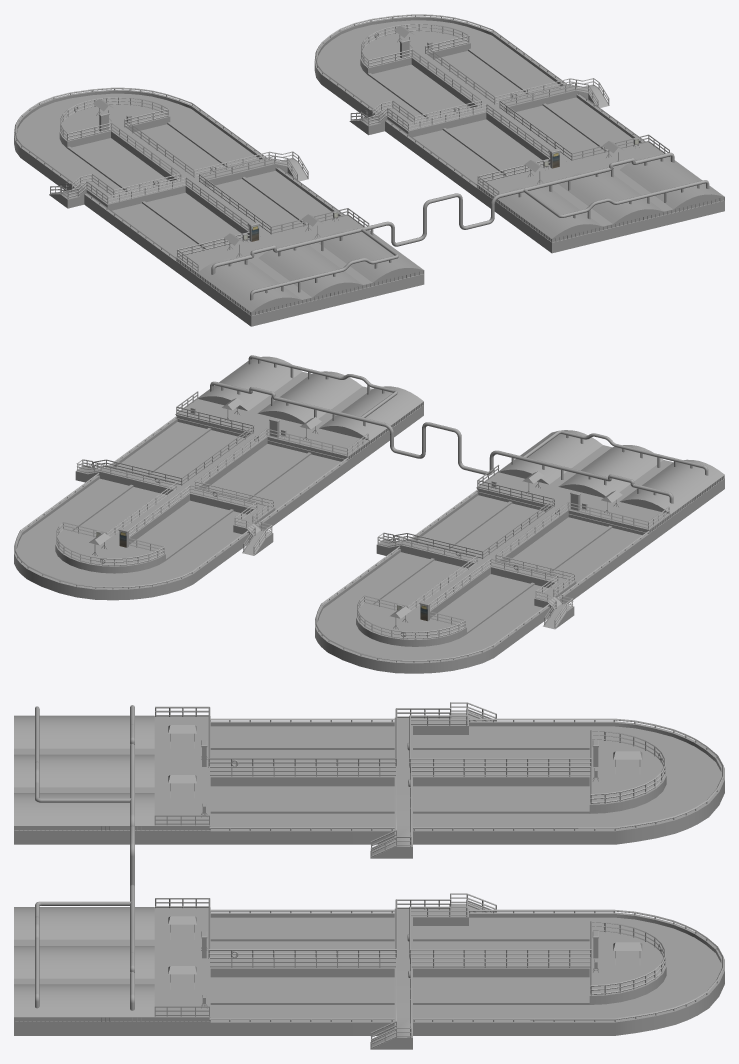
The model's file is YangHuaGou.fbx.
3 views of the same model, one above another, from view 1: azimuth 30°, elevation 25°; view 2: azimuth 150°, elevation 25°; view 3: azimuth 270°, elevation 25° (orthographic). The views are drawn at different scales.
Visible parts, largest first — view 1: polySurface15 (×2), Shu1 (×2), PengZi (×2), GanZi (×2), GuanZi, GeDuan (×2), LanSeGanZi (×2); view 2: polySurface15 (×2), Shu1 (×2), PengZi (×2), GanZi (×2), GuanZi, GeDuan (×2); view 3: polySurface15 (×2), Shu1 (×2), PengZi (×2), GanZi (×2), GeDuan (×2), GuanZi, PengZi1 (×2).
Part boxes in pixels (left/top/right/bottom): polySurface15 (×2): left=14, top=16, right=724, bottom=326; Shu1 (×2): left=17, top=20, right=633, bottom=256; PengZi (×2): left=197, top=155, right=724, bottom=312; GanZi (×2): left=14, top=14, right=669, bottom=271; GuanZi: left=211, top=152, right=709, bottom=300; GeDuan (×2): left=67, top=48, right=608, bottom=248; LanSeGanZi (×2): left=177, top=185, right=724, bottom=315; polySurface15 (×2): left=14, top=361, right=724, bottom=673; Shu1 (×2): left=16, top=422, right=641, bottom=662; PengZi (×2): left=198, top=356, right=724, bottom=514; GanZi (×2): left=14, top=391, right=669, bottom=662; GuanZi: left=210, top=355, right=708, bottom=503; GeDuan (×2): left=69, top=428, right=612, bottom=633; polySurface15 (×2): left=14, top=712, right=724, bottom=1049; Shu1 (×2): left=210, top=726, right=721, bottom=1020; PengZi (×2): left=14, top=715, right=154, bottom=1016; GanZi (×2): left=154, top=702, right=723, bottom=1048; GeDuan (×2): left=210, top=746, right=589, bottom=1004; GuanZi: left=35, top=705, right=134, bottom=1010; PengZi1 (×2): left=168, top=725, right=196, bottom=989.
Bounding box in the file's own units: 7382 × 539 × 6815.
Materials: 12 (1 with a texture image).
